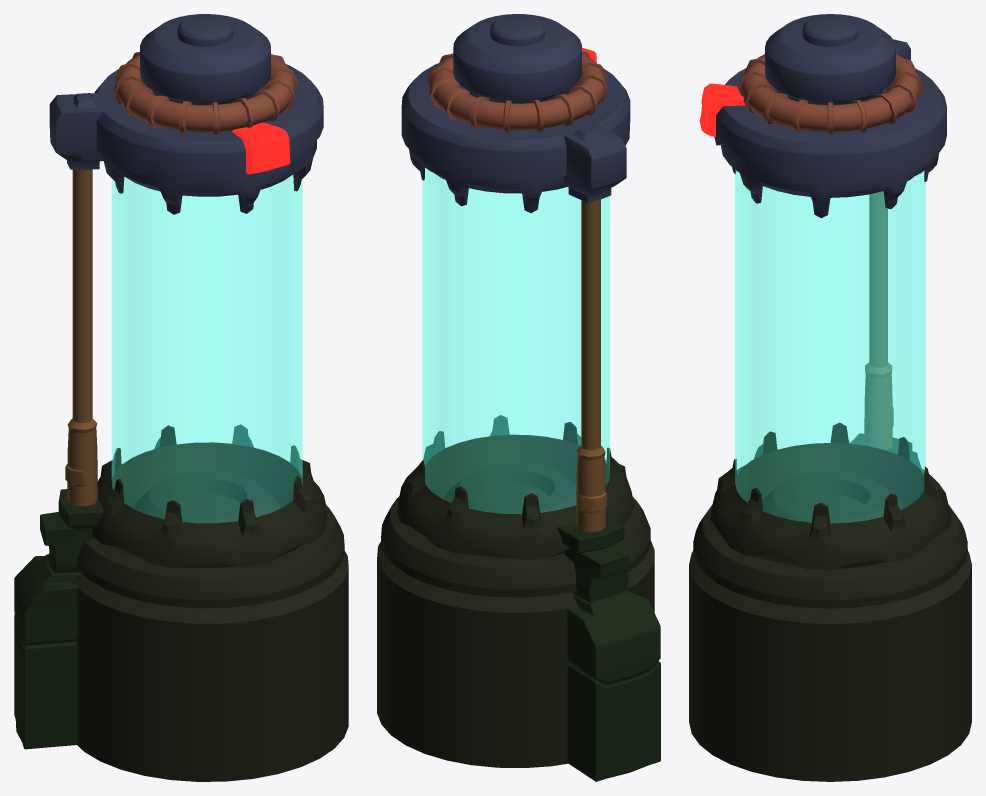
File: pod.glb
The picture shows the model from 3 angles, left to right: view 1: azimuth 30°, elevation 25°; view 2: azimuth 150°, elevation 25°; view 3: azimuth 270°, elevation 25°; orthographic projection.
Visible parts, largest first — view 1: BODY; view 2: BODY; view 3: BODY.
Part boxes in pixels (x1=…): BODY: x1=14, y1=14, x2=348, y2=781; BODY: x1=377, y1=14, x2=660, y2=781; BODY: x1=689, y1=14, x2=971, y2=781.
Size of the model in its own units: 0.4321 by 1 by 0.368.
